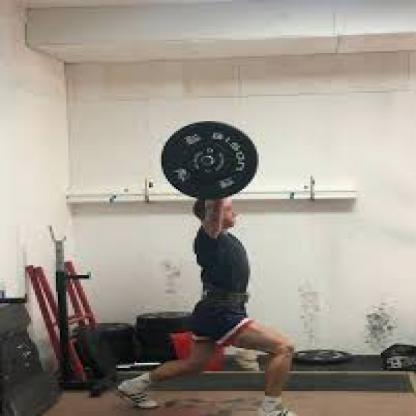barbell: (160, 118, 260, 201)
